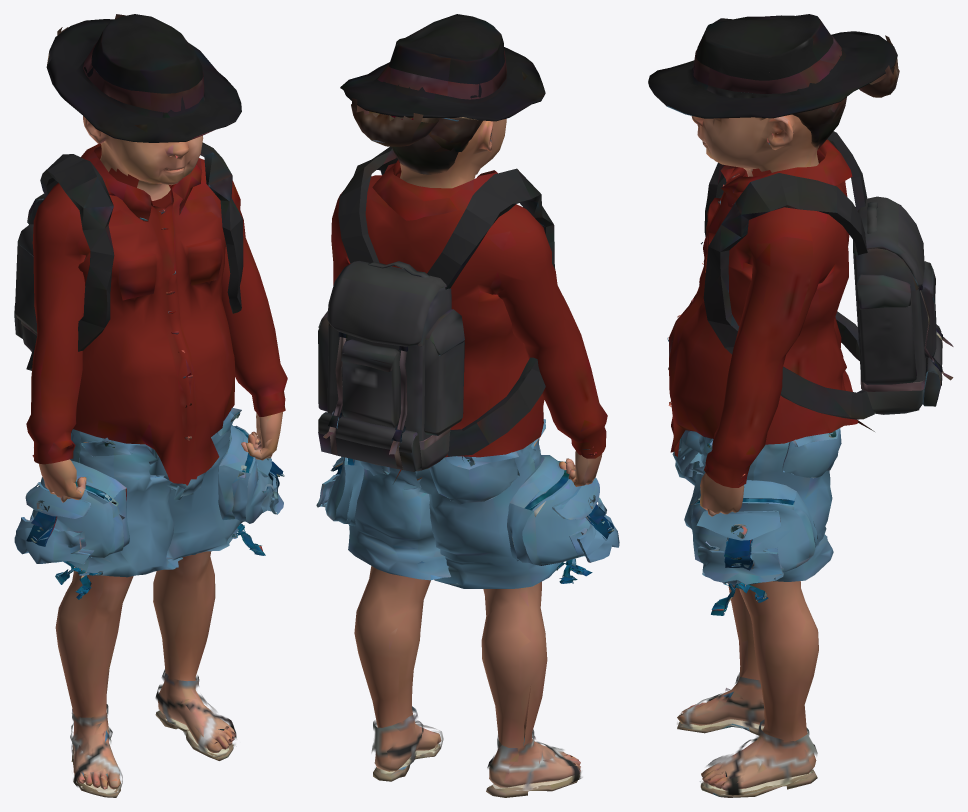
The picture shows the model from 3 angles, left to right: view 1: azimuth 30°, elevation 25°; view 2: azimuth 150°, elevation 25°; view 3: azimuth 270°, elevation 25°; orthographic projection. The views are drawn at different scales.
Parts seen in each view (by area): view 1: p02898; view 2: p02898; view 3: p02898.
Boxes of the visible parts, x1=… form: p02898: x1=14, y1=14, x2=287, y2=797; p02898: x1=316, y1=14, x2=619, y2=797; p02898: x1=648, y1=14, x2=953, y2=797.
Bounding box in the file's own units: 0.3901 × 1.02 × 0.3794.
1 material, 1 textured.
